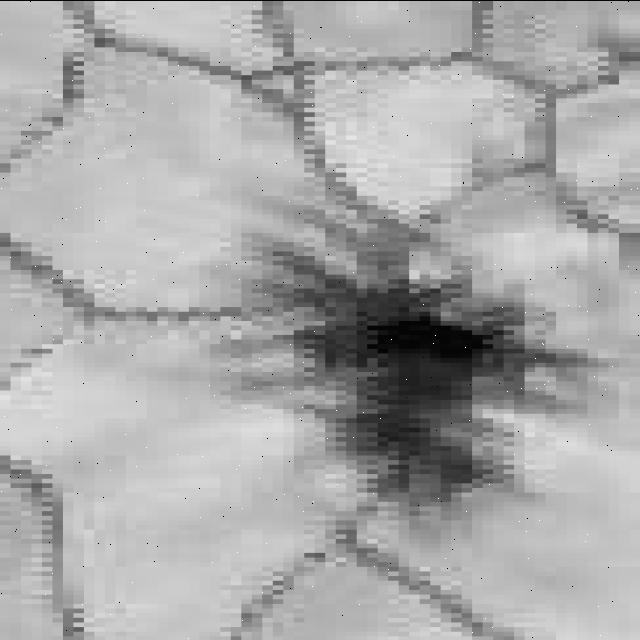good_void: (206, 211, 618, 518)
